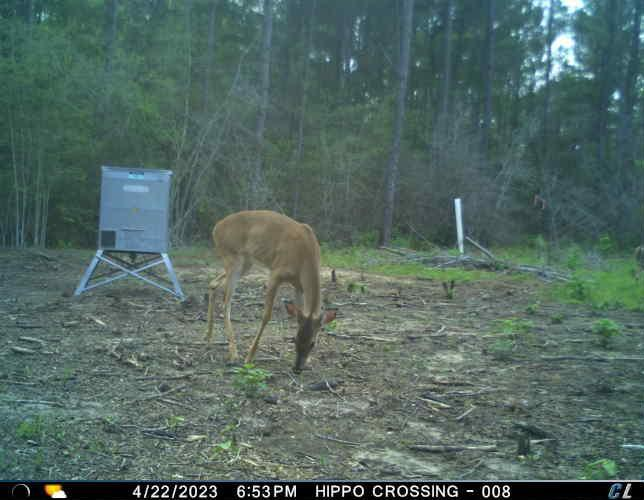Deer: (201, 205, 341, 378), (630, 243, 644, 294)
